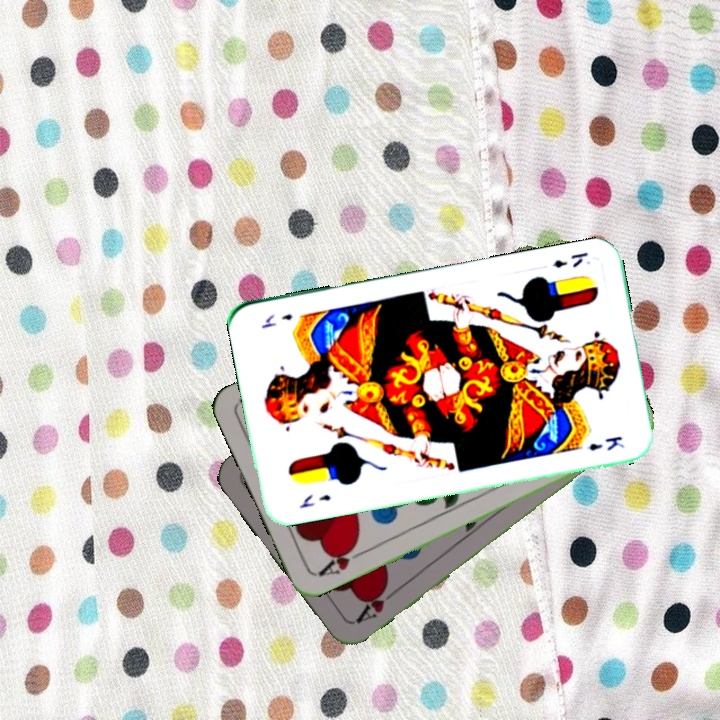EK: (549, 248, 591, 271), (295, 490, 333, 511)
HA: (351, 580, 400, 627), (314, 540, 369, 579)
